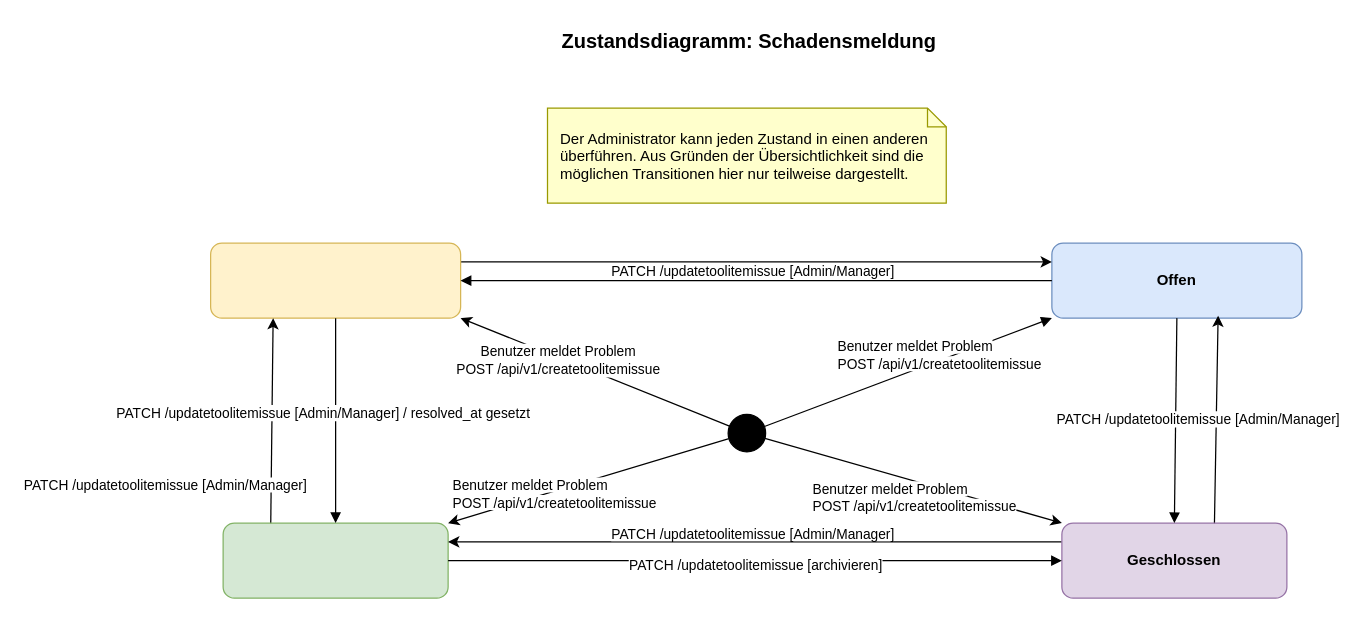
Image size: 1361x620. Some labels were removed from this diagram. Here are the shapes that lost their labels. From the top down, the box of each, then its label:
(209, 242, 461, 318): In Bearbeitung
(222, 522, 448, 598): Gelöst
